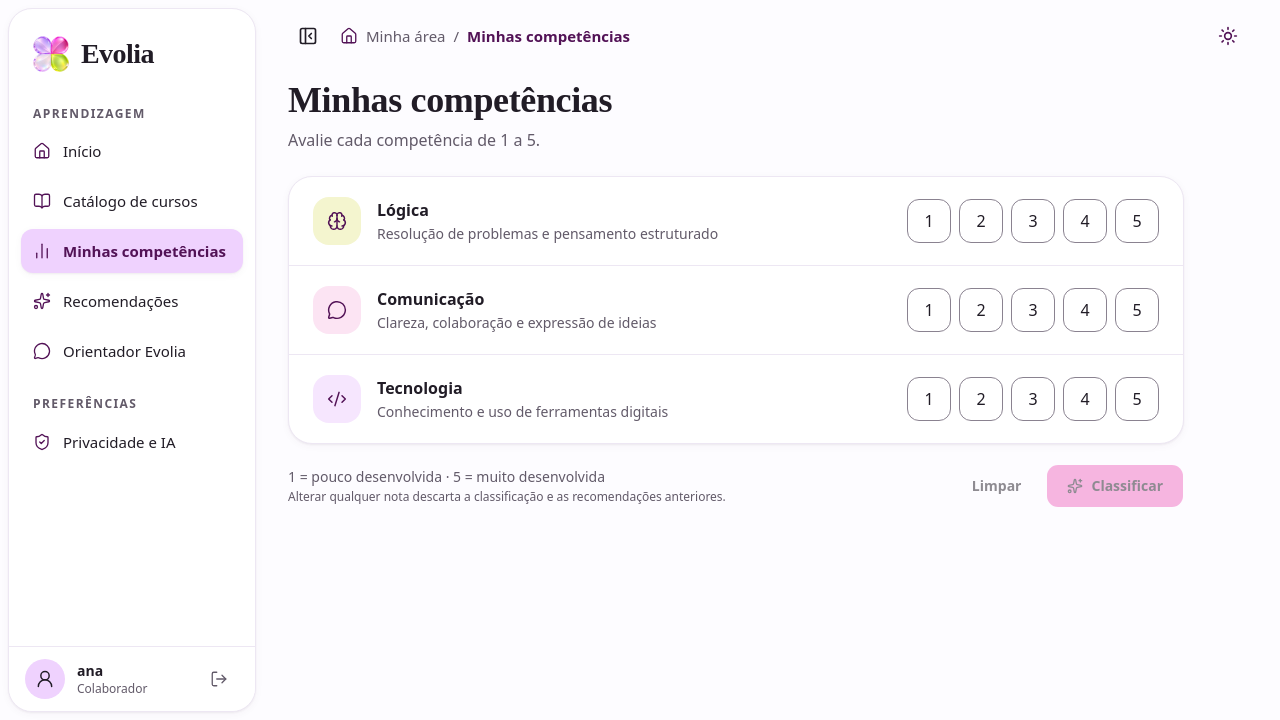
Test: classificação de competências › não pré-seleciona notas e só habilita a classificação com as três escolhidas
The width and height of the screenshot is (1280, 720).
Expected: the button "Classificar" is disabled, [1046,464,1184,508]
Click the radio button labelled "2" in the row of "Lógica" at (981, 221), box [959,199,1003,243]
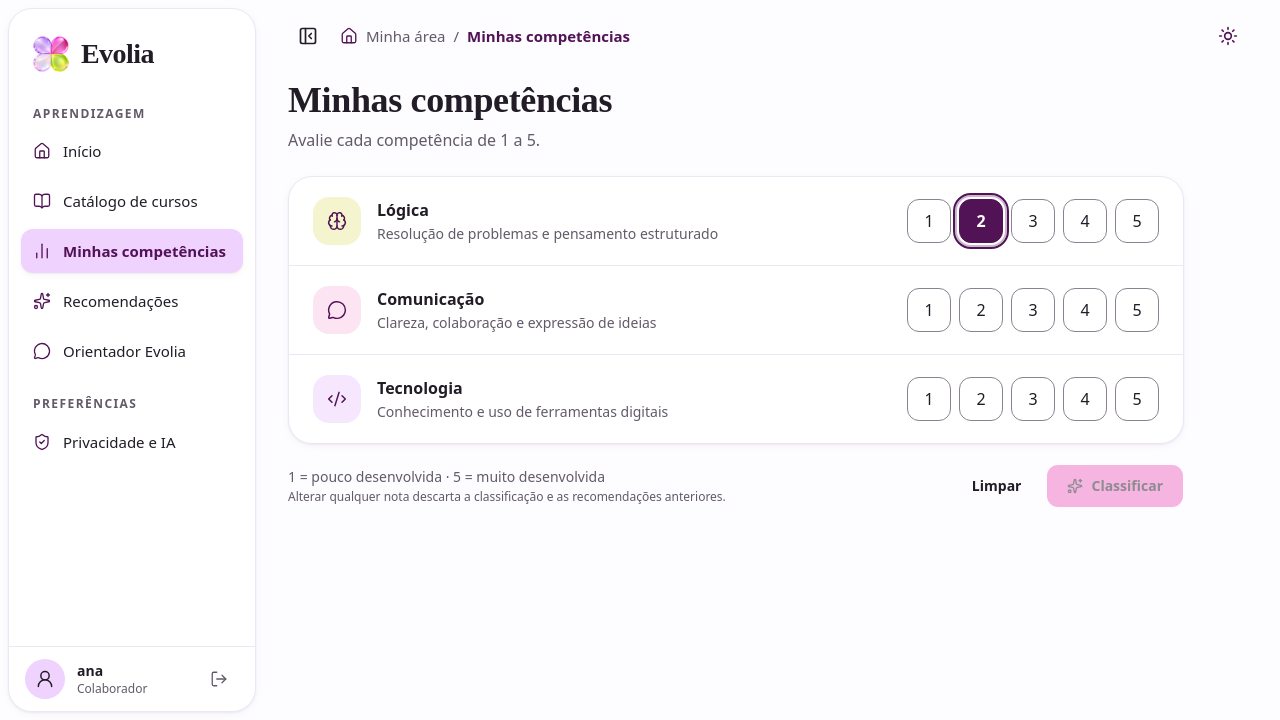
Click the radio button labelled "4" in the row of "Comunicação" at (1085, 310), box [1063,288,1107,332]
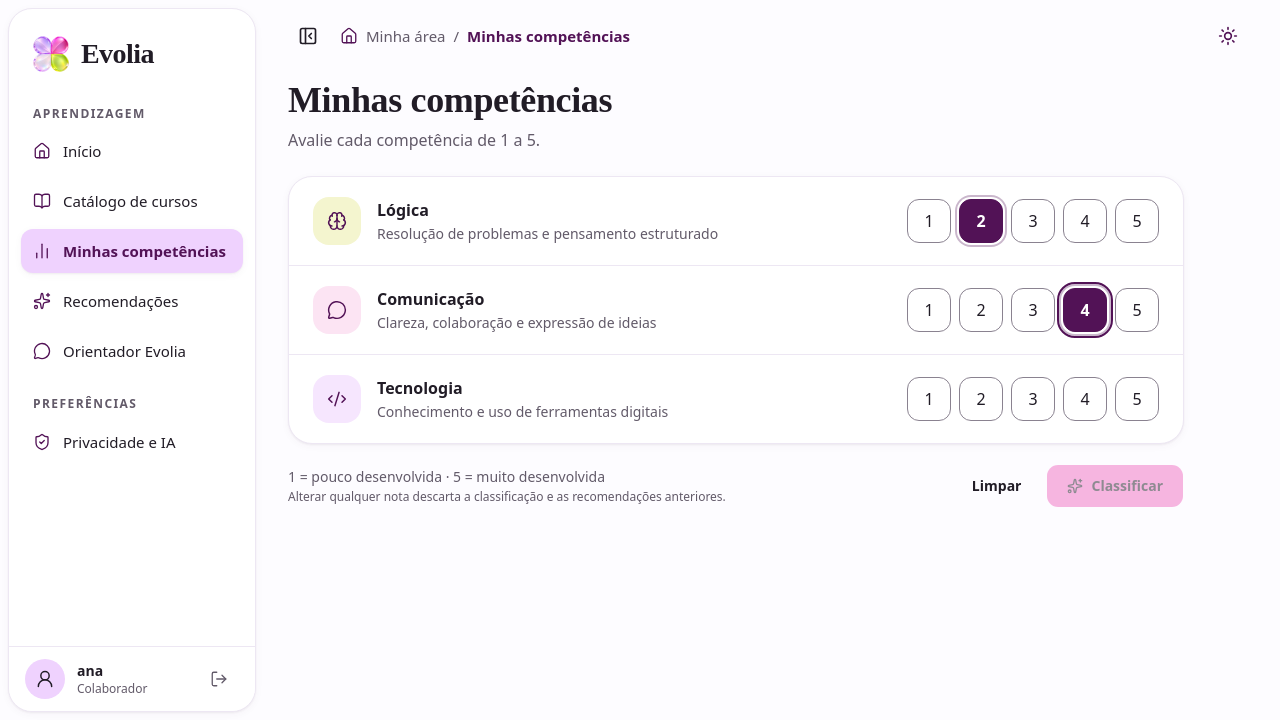
Expected: the button "Classificar" is disabled, [1046,464,1184,508]
Click the radio button labelled "3" in the row of "Tecnologia" at (1033, 399), box [1011,377,1055,421]
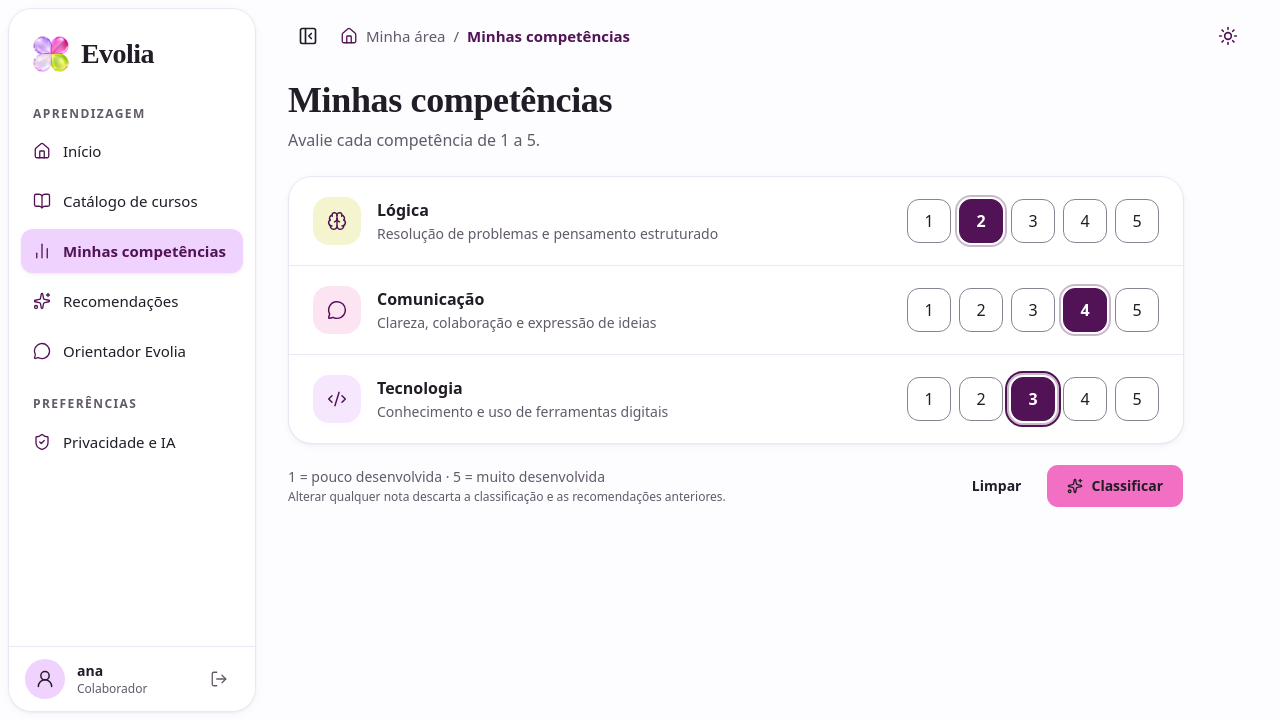
Now the button "Classificar" is enabled, box [1046,464,1184,508]
